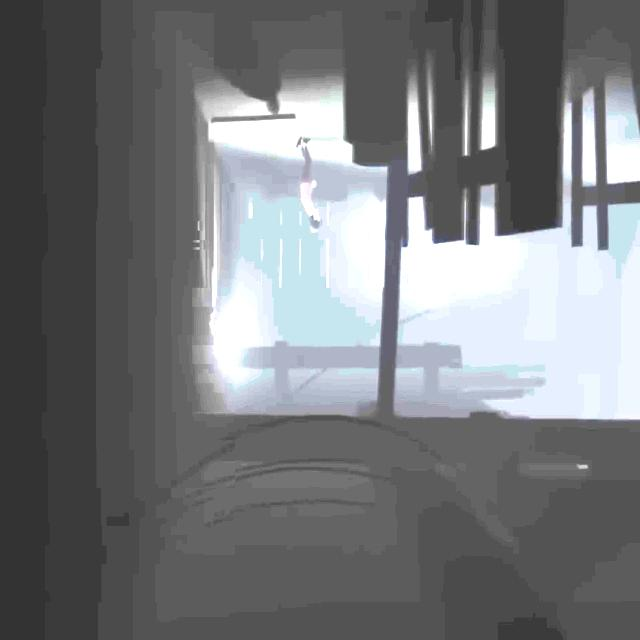boy: (297, 139, 321, 233)
